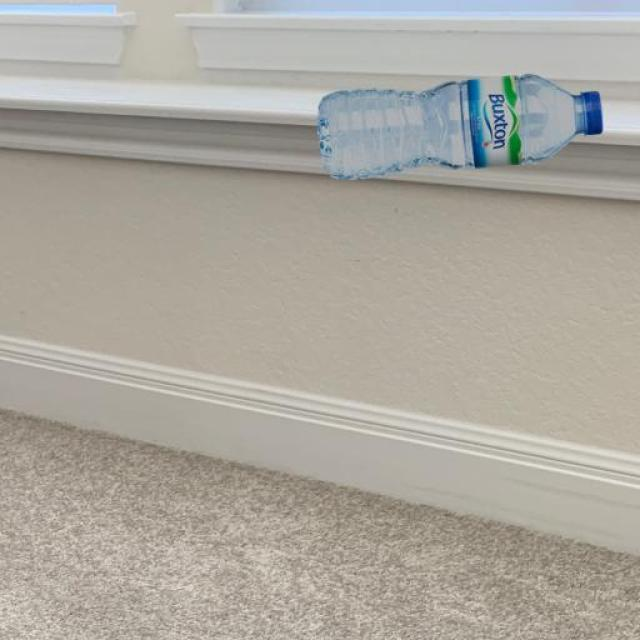bottle: (315, 71, 639, 181)
